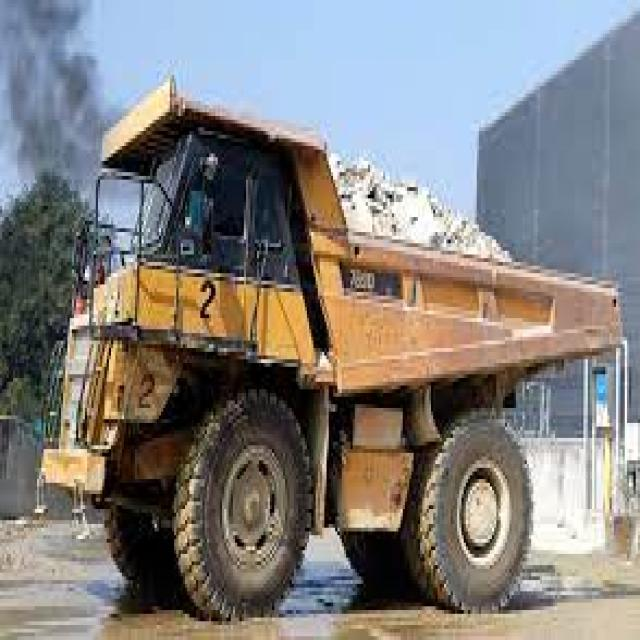dump_truck: (58, 73, 624, 624)
